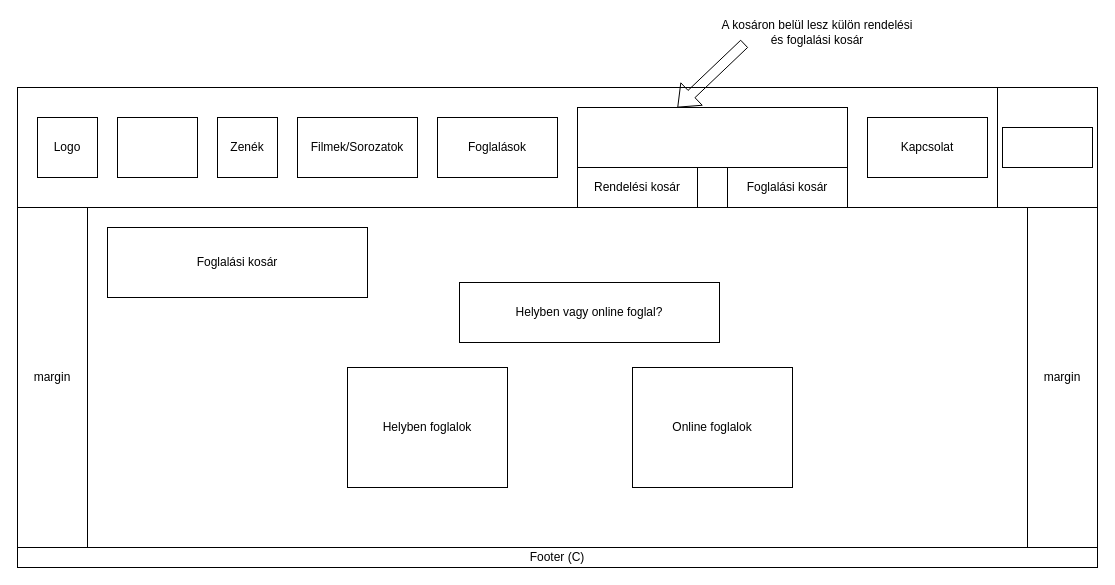
The diagram is 1115 pixels wide and 585 high, and some of its shapes have lost their labels. Each missing label, with the box of its shape:
Fiók bej/reg: (1002, 126, 1092, 168)
Kezdőlap: (116, 116, 198, 178)
Kosár: (576, 106, 848, 168)
